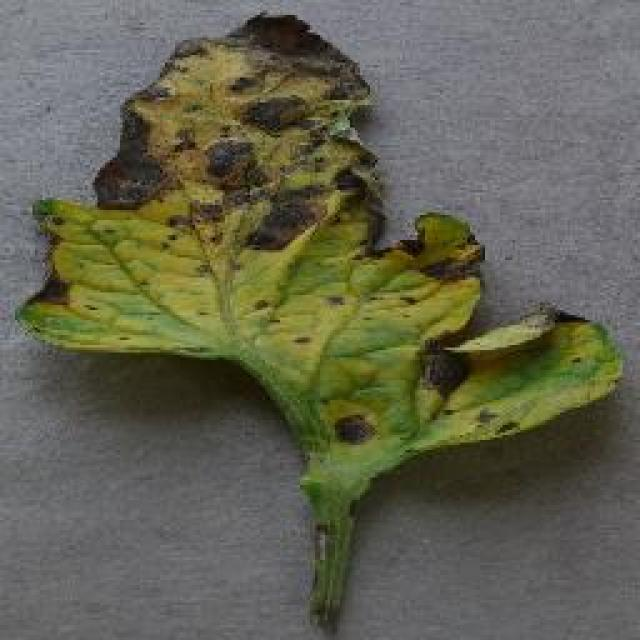Tomato_Early_Blight: (22, 10, 630, 453)
